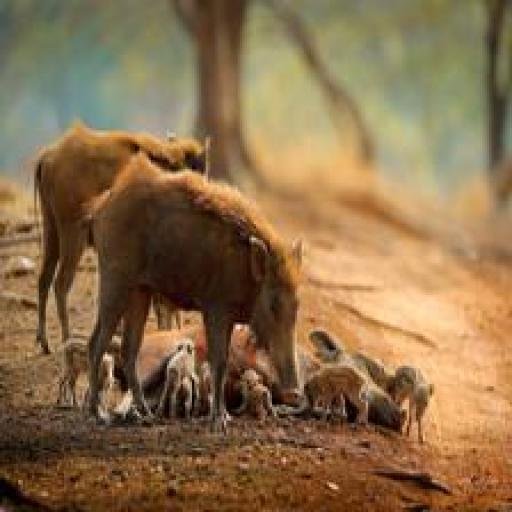Pig: (85, 160, 312, 441)
